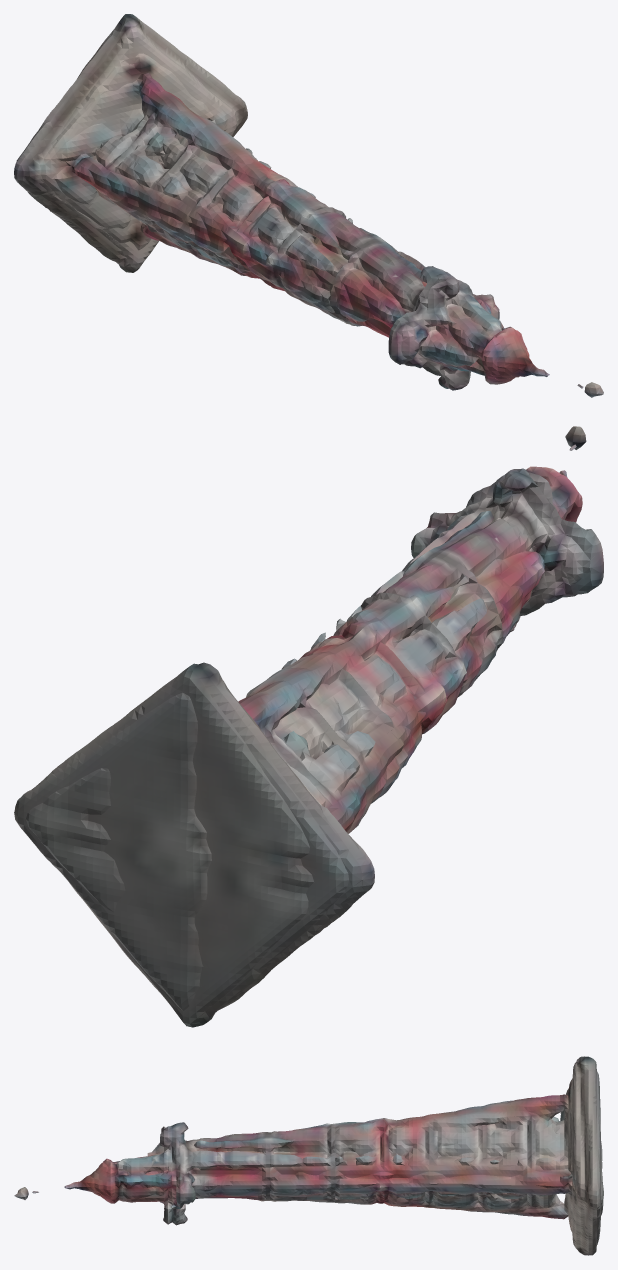
File: triposr_launch_tower.glb
The picture shows the model from 3 angles, top to bottom: view 1: azimuth 30°, elevation 25°; view 2: azimuth 150°, elevation 25°; view 3: azimuth 270°, elevation 25°; orthographic projection. The views are drawn at different scales.
Parts seen in each view (by area): view 1: geometry_0; view 2: geometry_0; view 3: geometry_0.
Part boxes in pixels (bbox=[...]): geometry_0: bbox=[14, 14, 603, 397]; geometry_0: bbox=[14, 426, 603, 1027]; geometry_0: bbox=[14, 1056, 603, 1255].
Size of the model in its own units: 0.3617 by 0.3611 by 0.9857.
